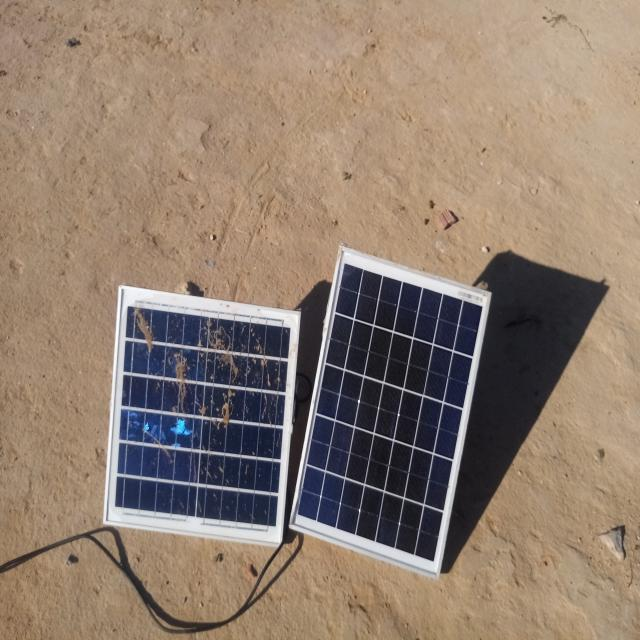faulty: (103, 286, 302, 544)
no faulty: (290, 248, 492, 576)
